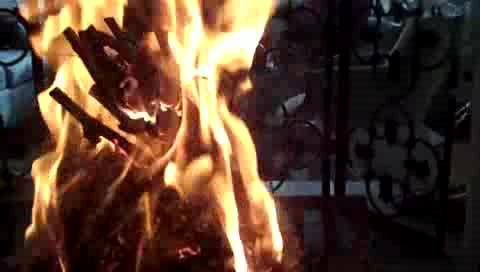fire: (48, 4, 259, 261)
